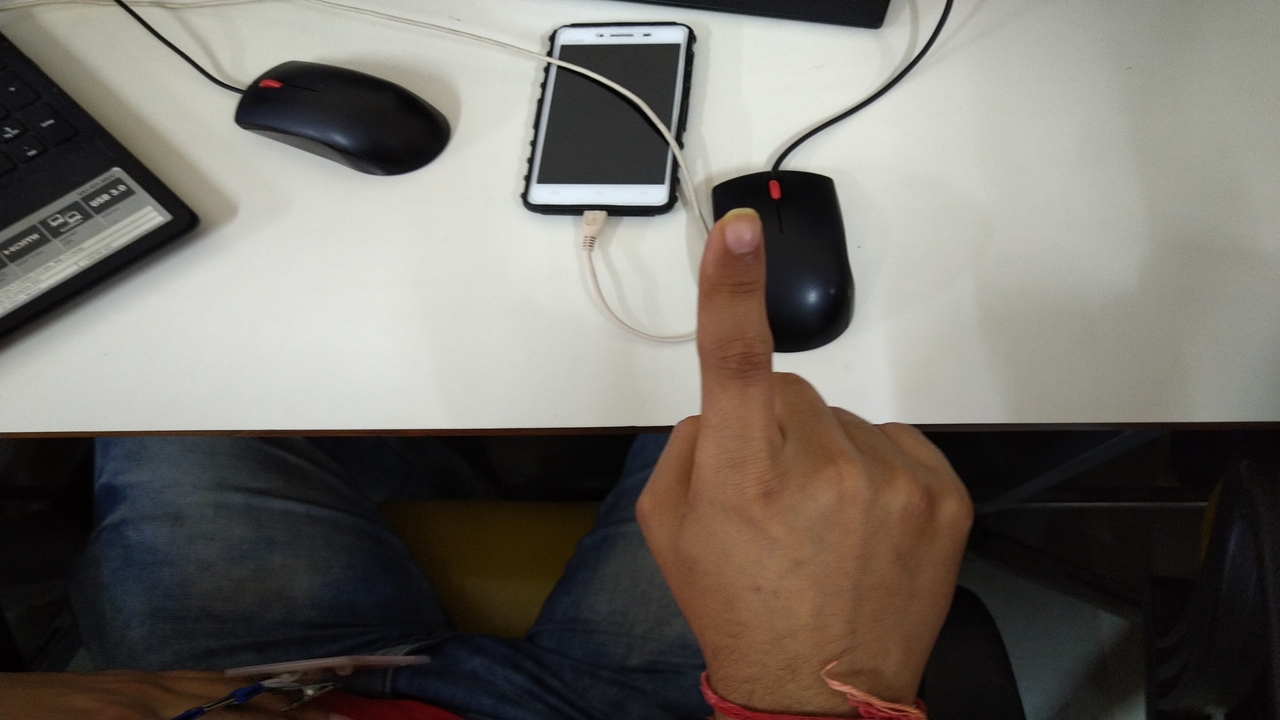fingertip: (706, 204, 764, 278)
